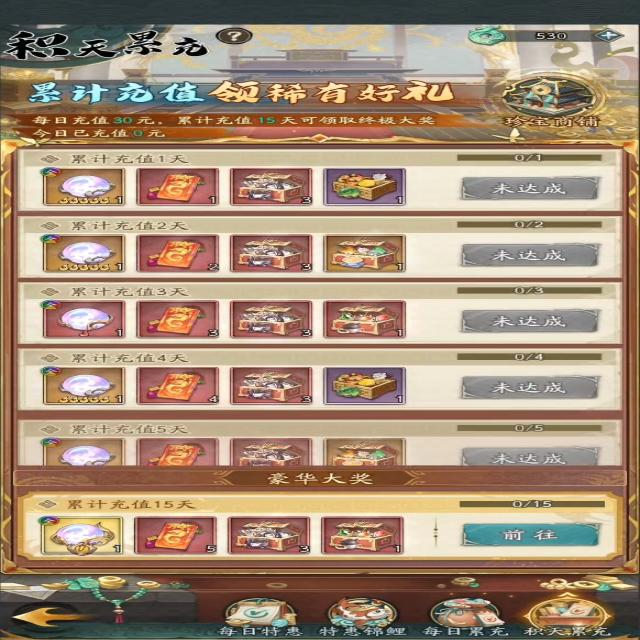navigation-DailyDiscount: (209, 594, 317, 639)
navigation-dailySum: (416, 593, 526, 639)
navigation-jitianSum: (524, 594, 620, 640)
navigation-tehuijinli: (315, 592, 412, 640)
navigation-treasureMall: (484, 63, 620, 132)
operation-back: (7, 600, 104, 635)
operation-buy: (454, 520, 610, 550)
operation-buy-off: (452, 307, 603, 336), (454, 441, 610, 469), (453, 176, 608, 203), (453, 240, 602, 268), (457, 376, 601, 403)
ref-buytext: (36, 150, 330, 168), (35, 352, 358, 368), (32, 284, 346, 300), (29, 497, 353, 512), (28, 552, 351, 566), (28, 422, 346, 436), (30, 218, 348, 232)
